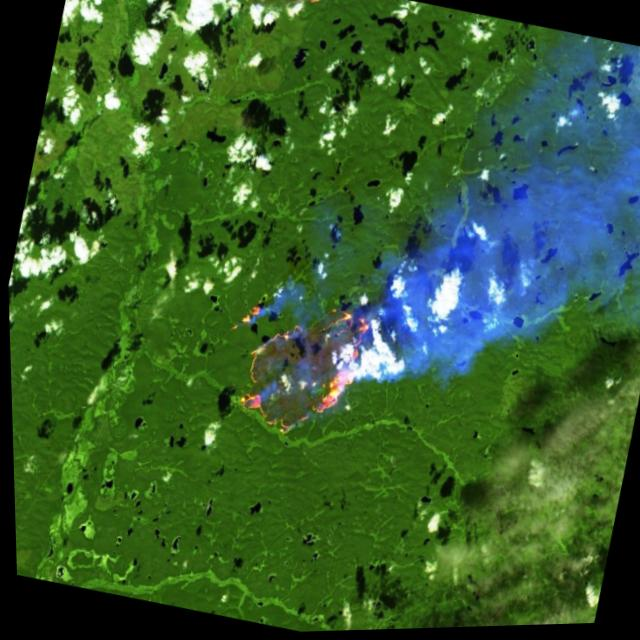fire: (211, 285, 376, 459), (225, 0, 332, 34)
